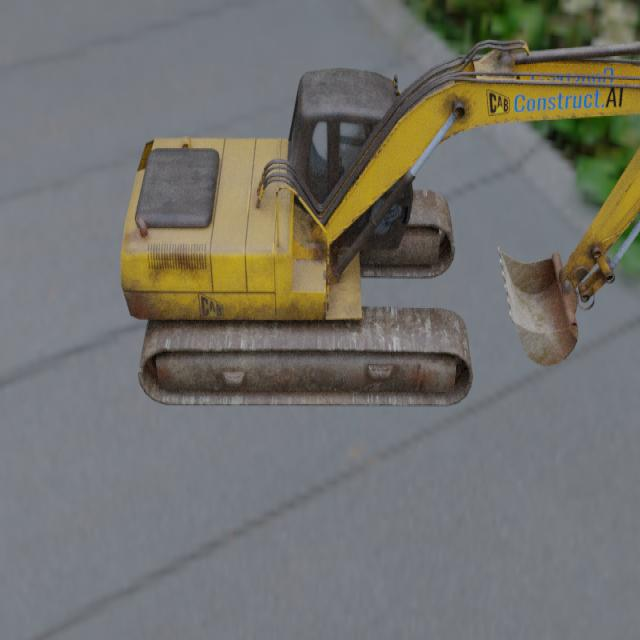excavator: (120, 39, 640, 406)
